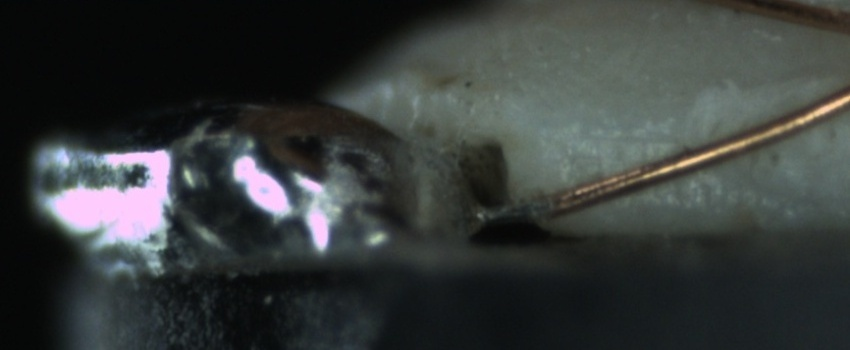DL: (568, 110, 687, 167)
TS: (477, 196, 554, 225)
